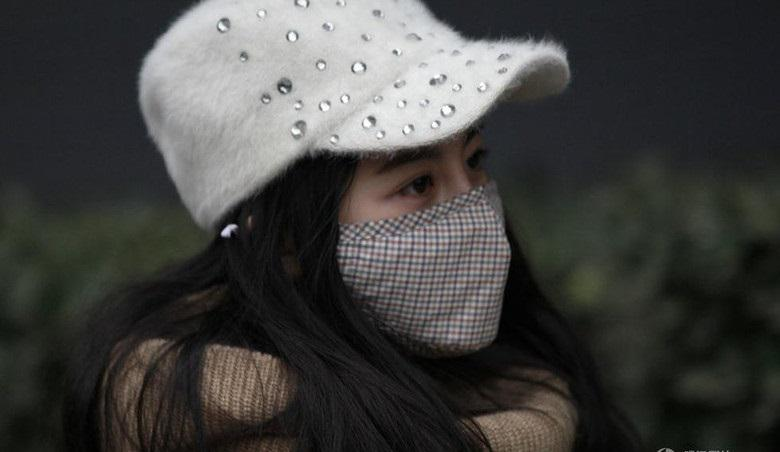OK: (330, 124, 511, 356)
